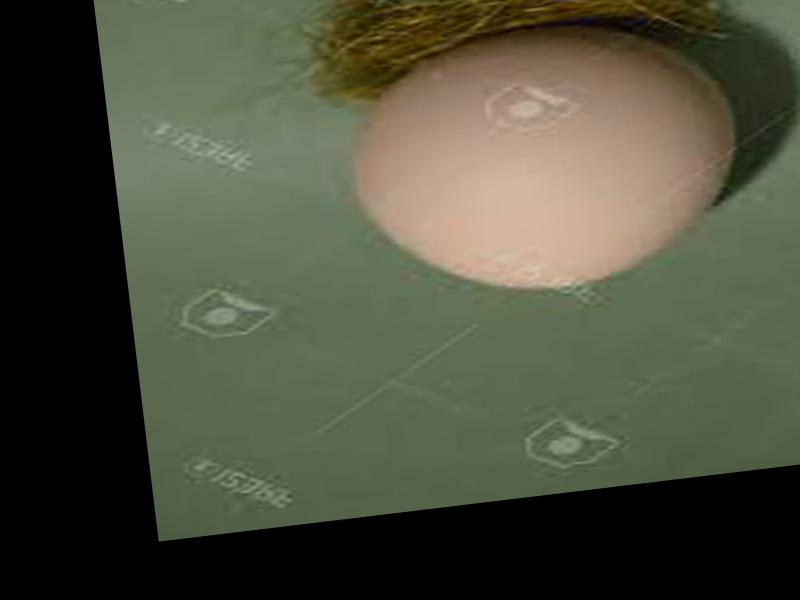Eggs: (342, 10, 750, 311)
